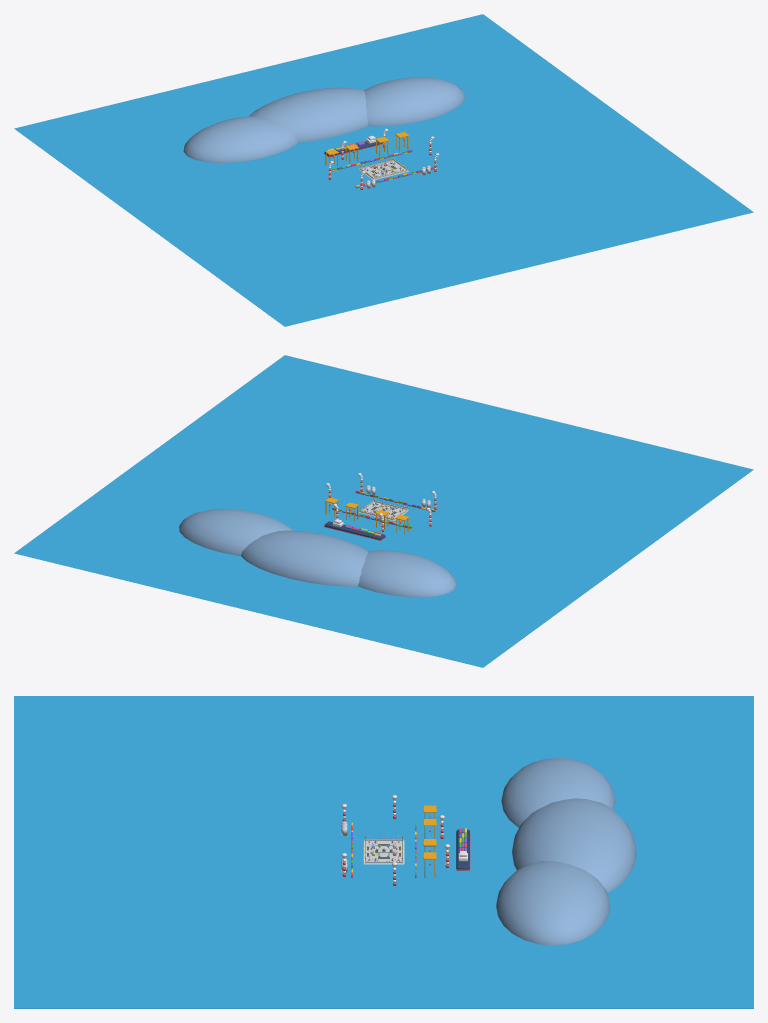
Rendered from fabrica.glb.
The picture shows the model from 3 angles, top to bottom: view 1: azimuth 30°, elevation 25°; view 2: azimuth 150°, elevation 25°; view 3: azimuth 270°, elevation 25°; orthographic projection. The views are drawn at different scales.
Parts seen in each view (by area): view 1: Visual; view 2: Visual; view 3: Visual.
Part boxes in pixels (<box>): Visual: <box>14,14,753,326</box>; Visual: <box>14,355,753,667</box>; Visual: <box>14,696,753,1008</box>.
Bounding box in the file's own units: 1400 × 140 × 1400.
